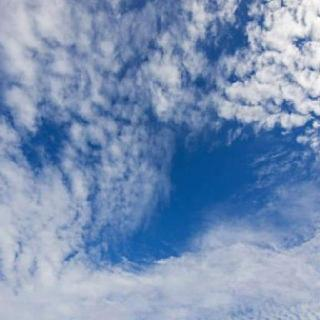Cirrocumulus: (0, 0, 320, 318)
